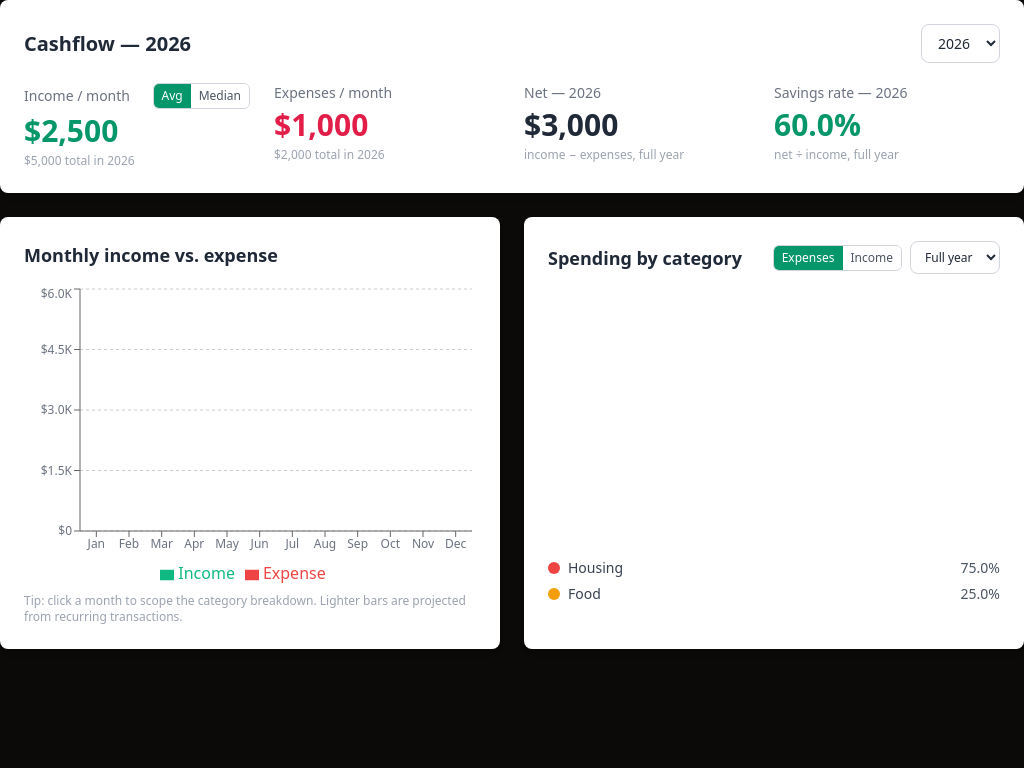
Test: CashflowDashboard — v0.15.2 additions › explains a forecast-only month instead of a bare "no data"
The width and height of the screenshot is (1024, 768).
October has no recorded rows but the recurring rule projects into it.
Select "Oct" in the dropdown in the row of "Spending by category" at (955, 258), box [910, 241, 1000, 274]
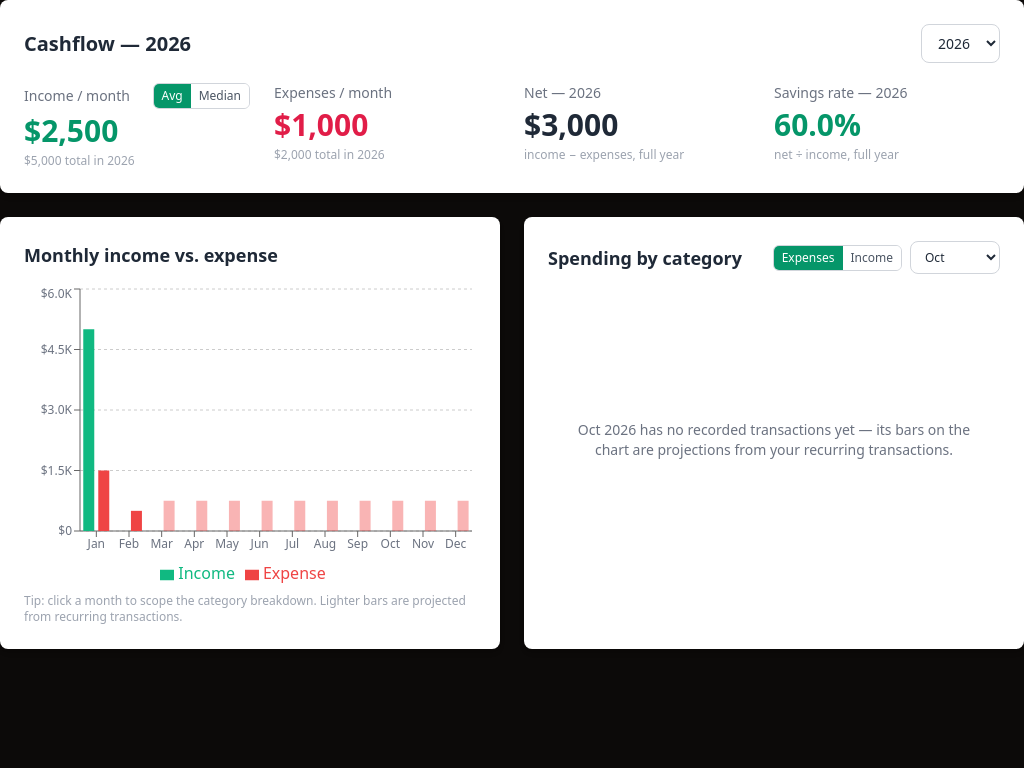
Check: the text "projections from your recurring transactions" is shown, box [578, 420, 970, 459]
